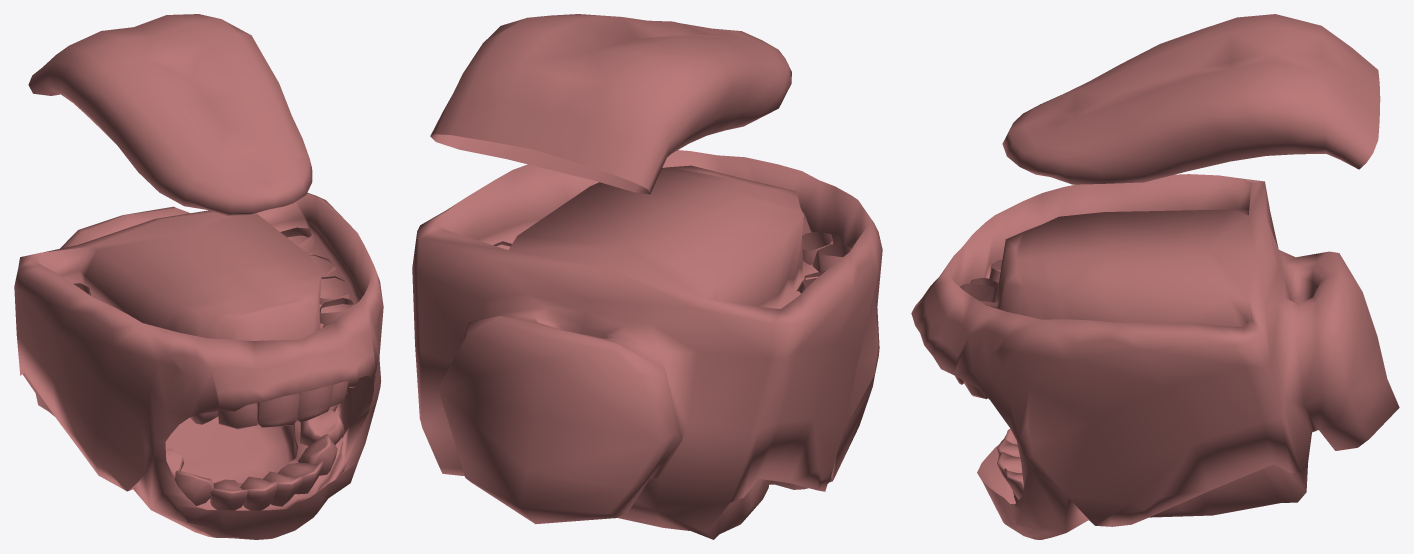
The model's file is MyHumanHeadV2Mouth.gltf.
The picture shows the model from 3 angles, left to right: view 1: azimuth 30°, elevation 25°; view 2: azimuth 150°, elevation 25°; view 3: azimuth 270°, elevation 25°; orthographic projection. The views are drawn at different scales.
Parts seen in each view (by area): view 1: MouthMesh.001; view 2: MouthMesh.001; view 3: MouthMesh.001.
Boxes of the visible parts, x1,y1,x2,y2 form: MouthMesh.001: (14, 14, 383, 539); MouthMesh.001: (412, 14, 882, 539); MouthMesh.001: (911, 14, 1399, 539).
Bounding box in the file's own units: 0.0805 × 0.1066 × 0.0993.
